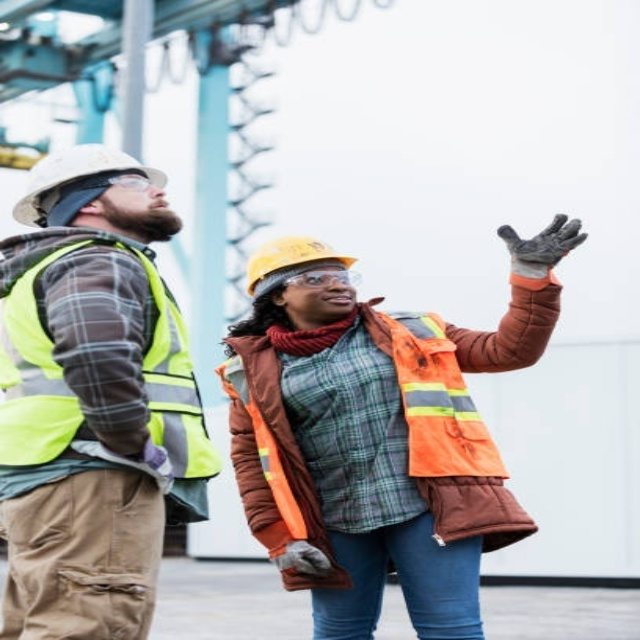Gafas: (279, 269, 361, 288), (100, 173, 155, 190)
Guantes: (67, 437, 187, 497), (496, 209, 593, 275), (268, 538, 326, 579)
Sin_mascara: (135, 196, 171, 219), (322, 294, 353, 306)
